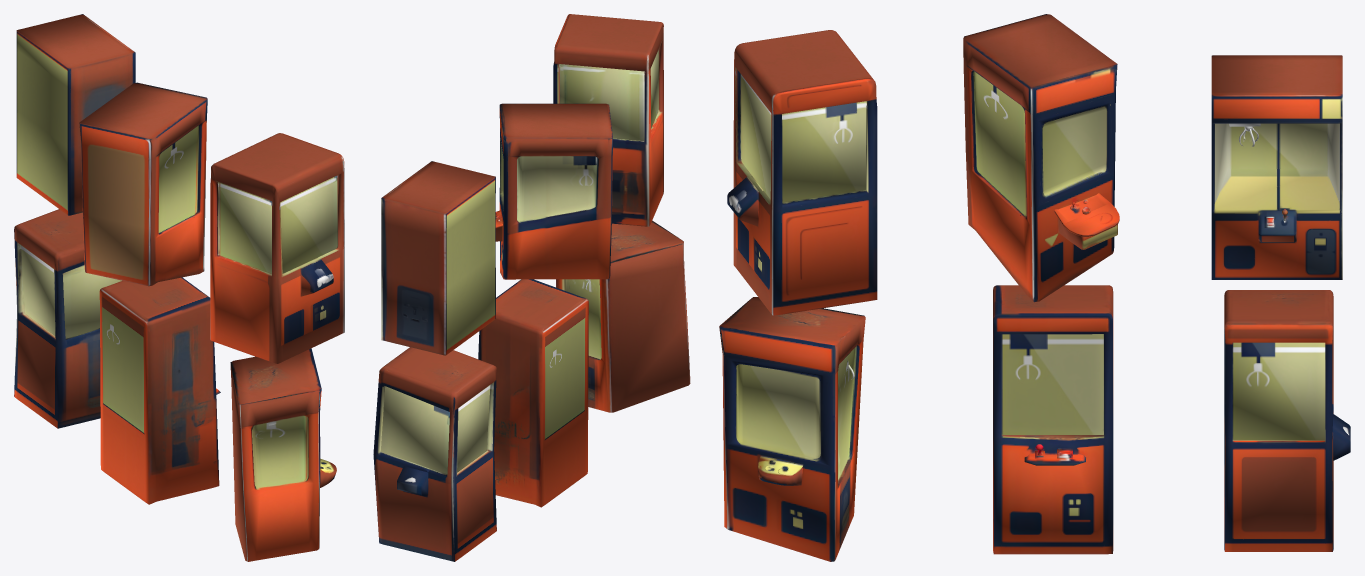
Rendered from tripo-p2-claw-machine.glb.
The picture shows the model from 3 angles, left to right: view 1: azimuth 30°, elevation 25°; view 2: azimuth 150°, elevation 25°; view 3: azimuth 270°, elevation 25°; orthographic projection. The views are drawn at different scales.
Parts seen in each view (by area): view 1: tripo_node_323403ec-8bbd-4941-98ea-e88c9b1d65bd; view 2: tripo_node_323403ec-8bbd-4941-98ea-e88c9b1d65bd; view 3: tripo_node_323403ec-8bbd-4941-98ea-e88c9b1d65bd.
Boxes of the visible parts, x1,y1,x2,y2 form: tripo_node_323403ec-8bbd-4941-98ea-e88c9b1d65bd: (14,14,344,561); tripo_node_323403ec-8bbd-4941-98ea-e88c9b1d65bd: (373,14,690,561); tripo_node_323403ec-8bbd-4941-98ea-e88c9b1d65bd: (719,14,1350,561).
Bounding box in the file's own units: 0.354 × 0.8462 × 0.9995.
1 material, 1 textured.
